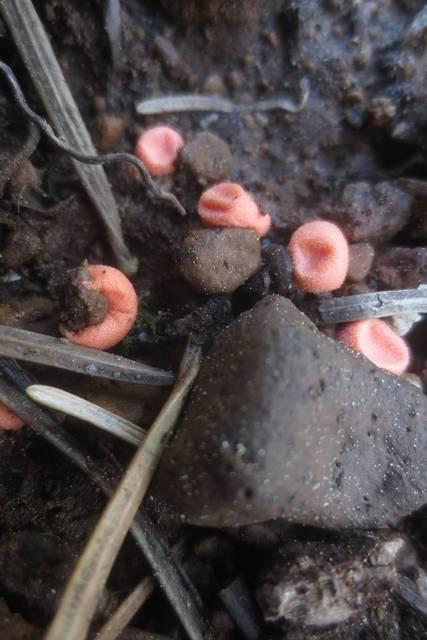Non-edible Mushroom: (55, 259, 139, 350), (286, 218, 350, 294), (334, 315, 412, 377), (195, 179, 272, 237), (134, 123, 184, 176)
